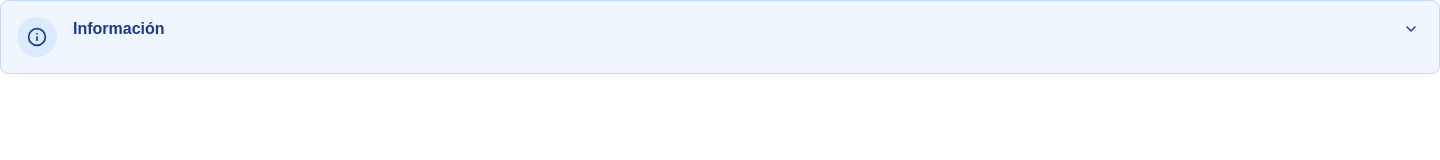
Test: InfoBanner › collapsible › hides the content by default and shows it when toggled
Check: the text "Contenido oculto" is not shown
Click the button at (1411, 29), box [1399,17,1423,41]
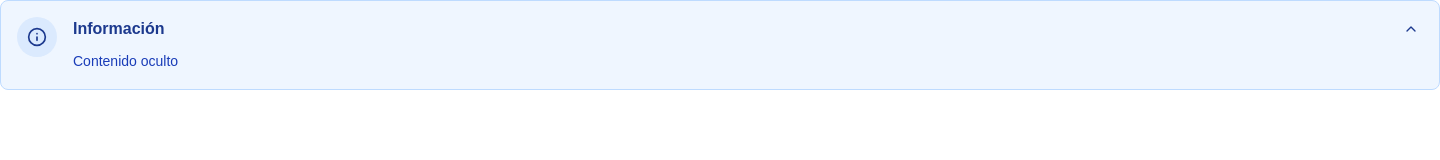
Check: the button is expanded, box [1399,17,1423,41]
Check: the text "Contenido oculto" is shown, box [73,53,178,69]
